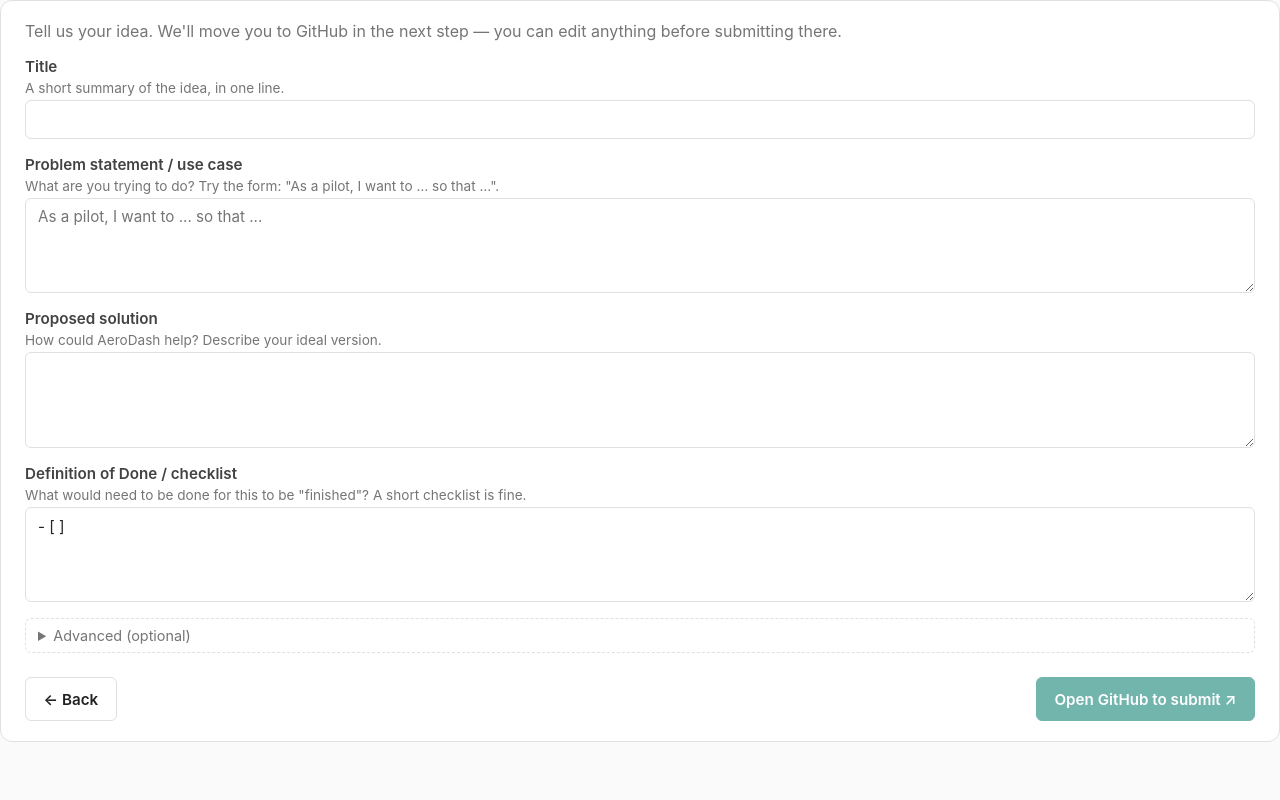
ContributeFeatureForm › disables submit until every required field is filled
Check: the button with test id "feature-submit" is disabled, box [1036,677,1255,721]
Type "Wind arrow on runway" into the field with test id "feature-title". click: point(640, 119)
box: [25,100,1255,139]
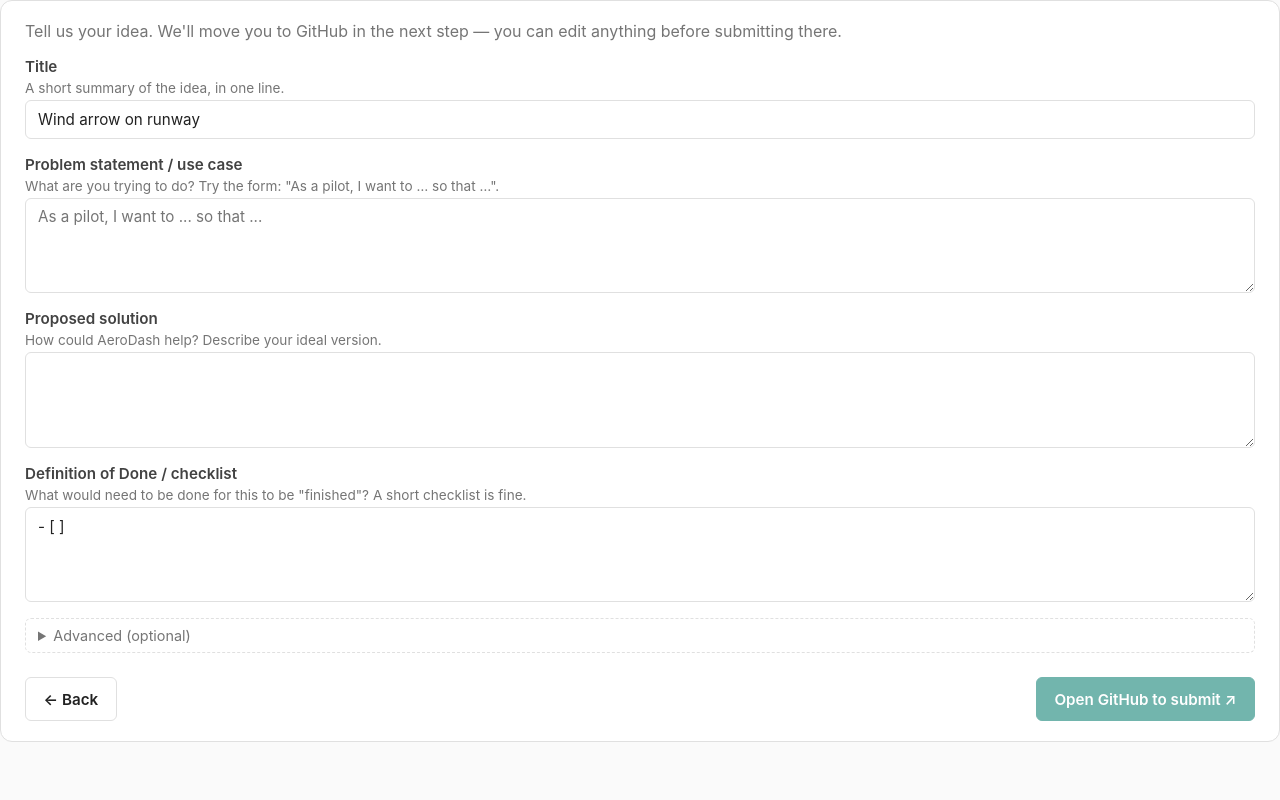
Type "As a pilot, I want…" into the text box with test id "feature-problem". click: point(640, 245)
box: [25,198,1255,293]
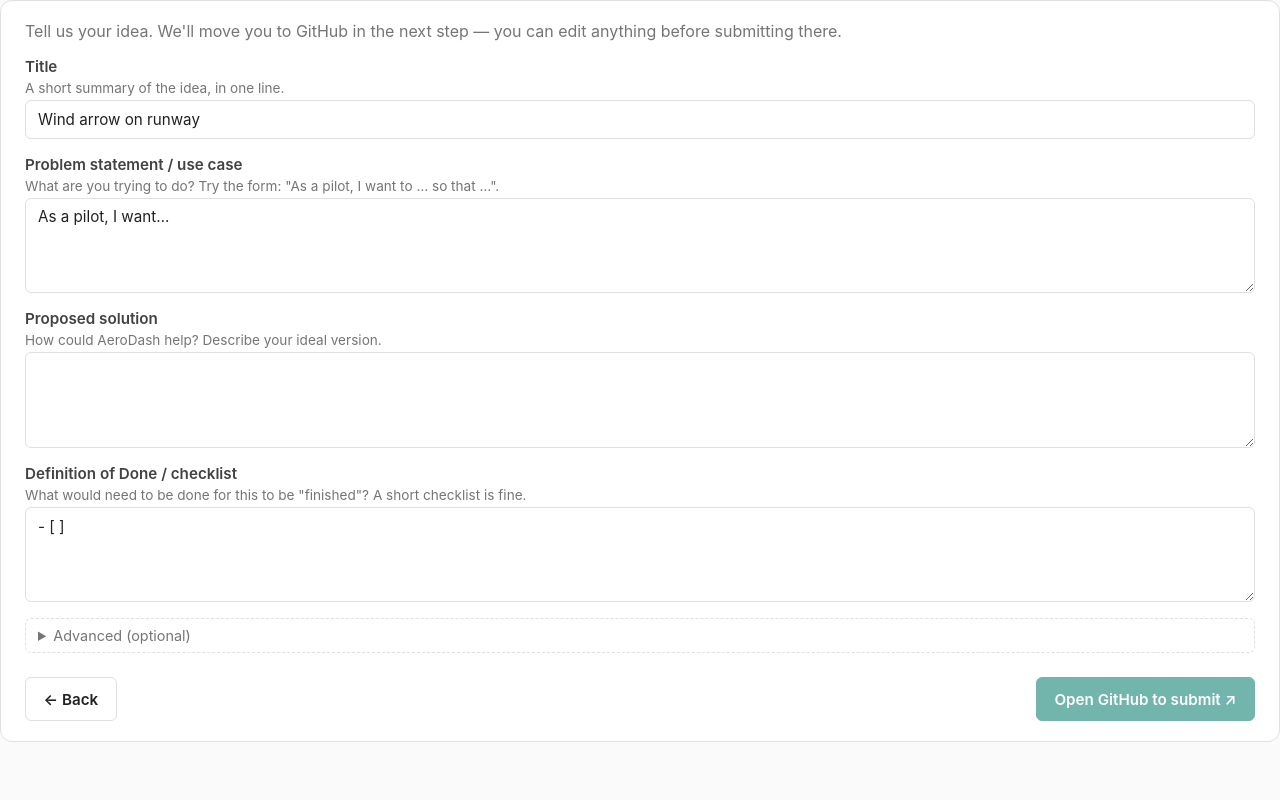
Type "Render an arrow" into the text box with test id "feature-solution". click: point(640, 400)
box: [25,352,1255,448]
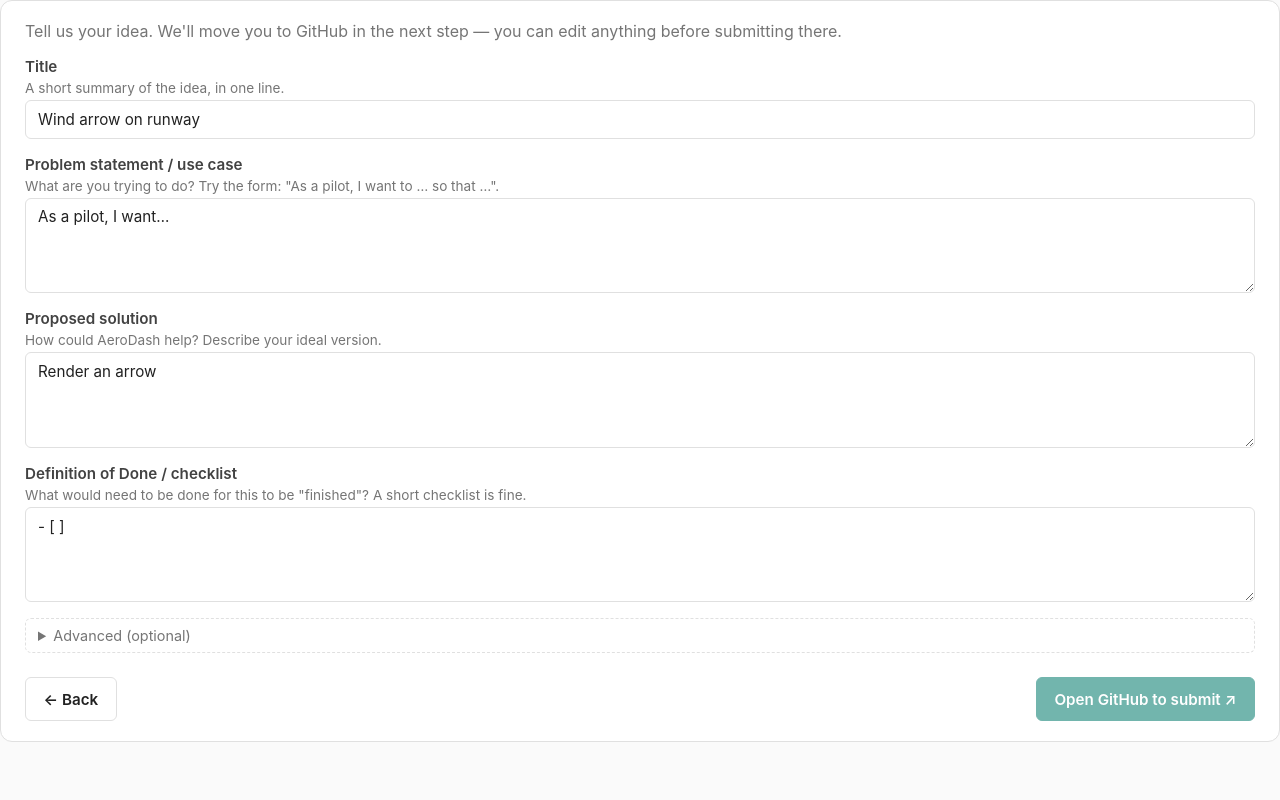
Replace the text in the text box with test id "feature-dod" with "- [ ] Arrow renders". click: point(640, 555)
box: [25,507,1255,602]
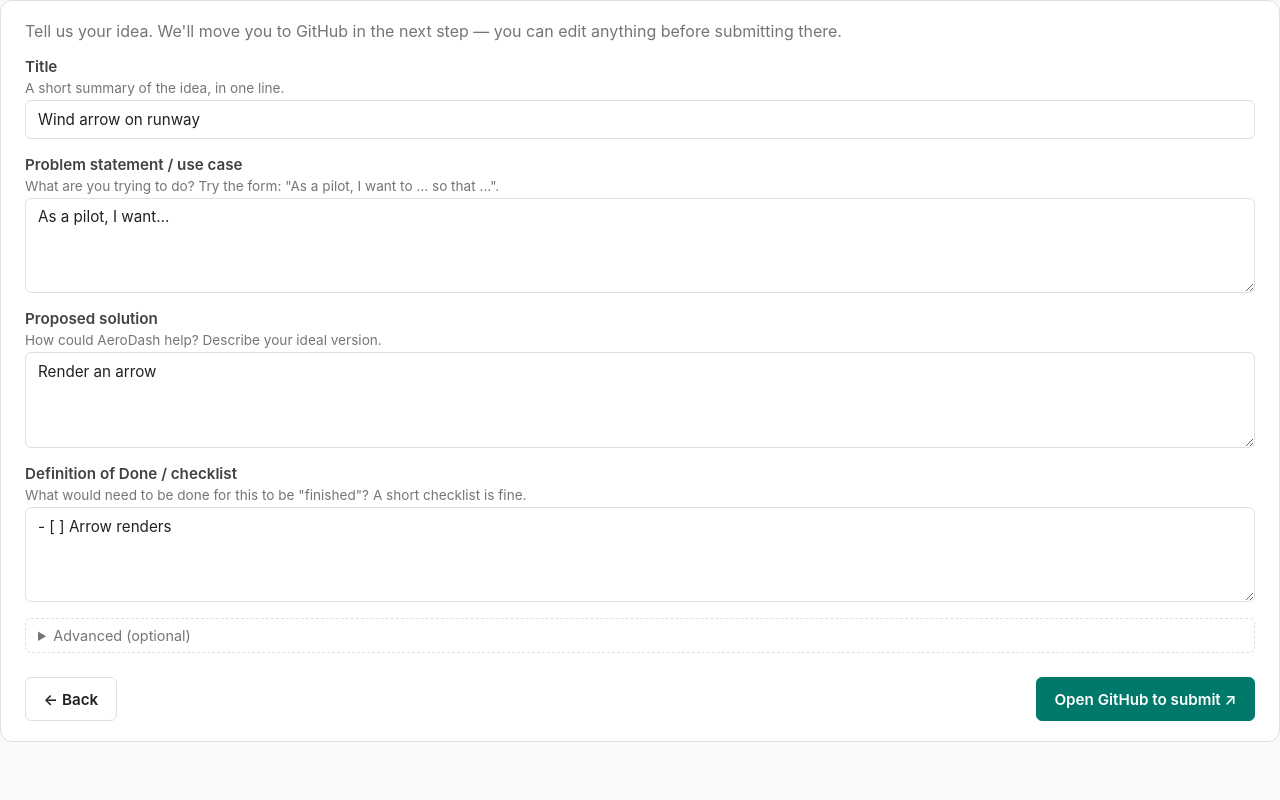
Check: the button with test id "feature-submit" is enabled, box [1036,677,1255,721]
